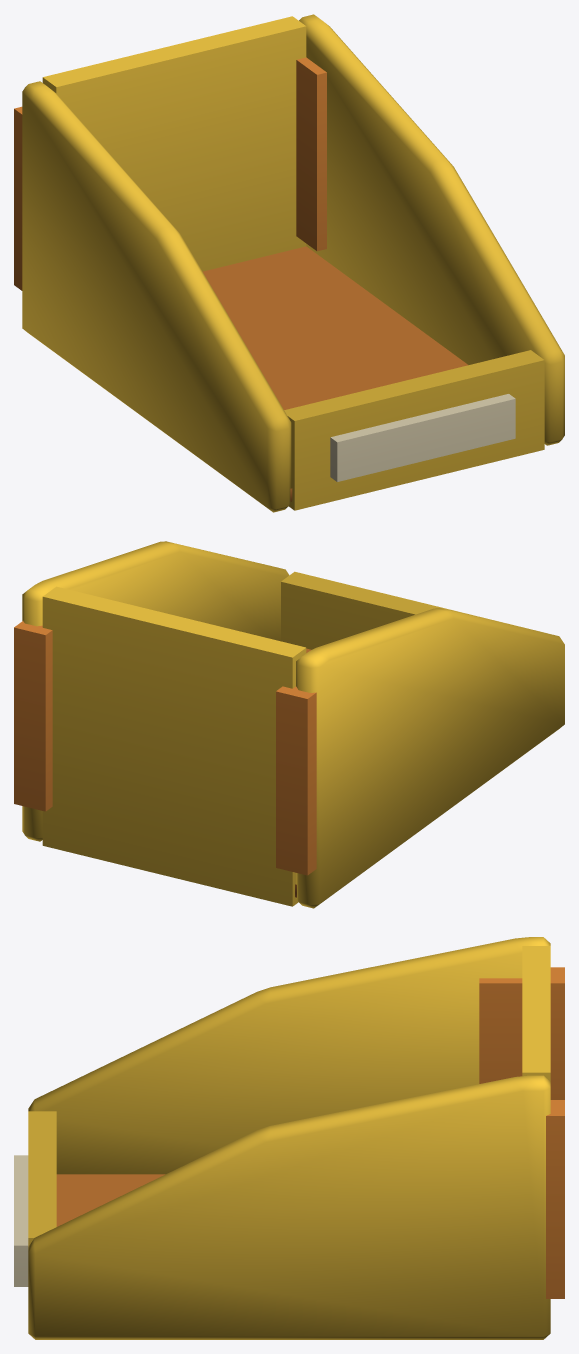
File: PartsBin_01.glb
3 views of the same model, one above another, from view 1: azimuth 30°, elevation 25°; view 2: azimuth 150°, elevation 25°; view 3: azimuth 270°, elevation 25° (orthographic). The views are drawn at different scales.
Parts seen in each view (by area): view 1: SM_PartsBin_01; view 2: SM_PartsBin_01; view 3: SM_PartsBin_01.
Boxes of the visible parts, x1,y1,x2,y2 form: SM_PartsBin_01: (14, 14, 564, 512); SM_PartsBin_01: (14, 541, 564, 908); SM_PartsBin_01: (14, 937, 564, 1339).
Bounding box in the file's own units: 0.15 × 0.12 × 0.232.
1 material, 1 textured.
